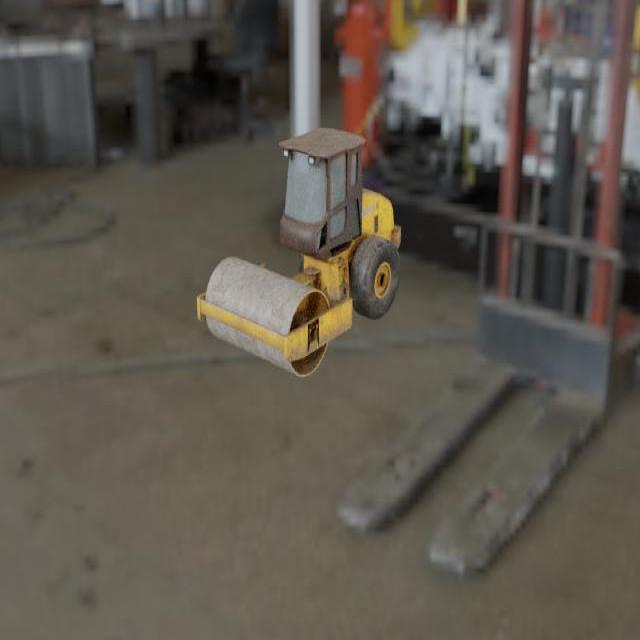Roller: (196, 127, 401, 377)
